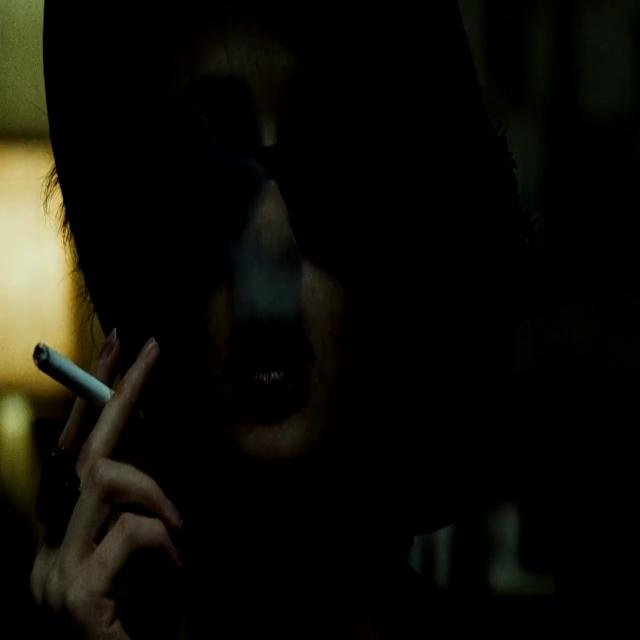Smooking: (22, 337, 122, 408)
